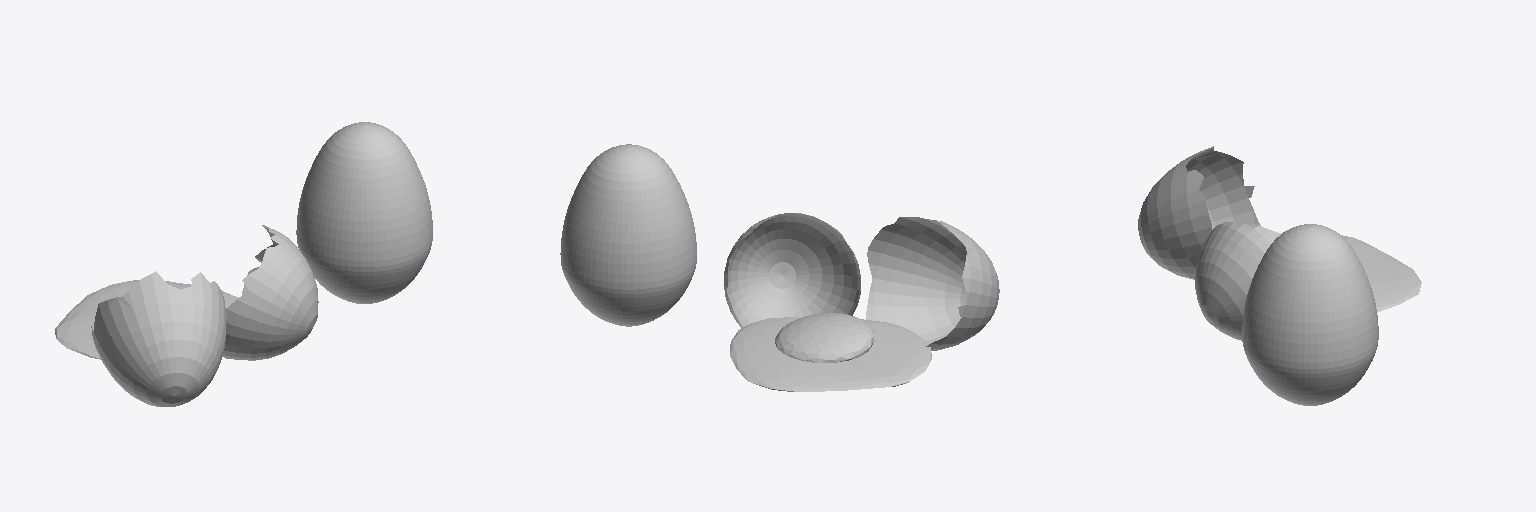
The model's file is eggs.obj.
3 views of the same model, side by side, from view 1: azimuth 30°, elevation 25°; view 2: azimuth 150°, elevation 25°; view 3: azimuth 270°, elevation 25° (orthographic).
Visible parts, largest first — view 1: Sphere001, Sphere003, Sphere002, GeoSphere002; view 2: Sphere001, Sphere003, Sphere002, GeoSphere002, GeoSphere001; view 3: Sphere001, Sphere003, Sphere002, GeoSphere002.
Part boxes in pixels (x1,y1,x2,y2): Sphere001: (296, 122, 432, 303); Sphere003: (91, 271, 226, 406); Sphere002: (223, 225, 318, 360); GeoSphere002: (55, 280, 237, 359); Sphere001: (560, 144, 696, 326); Sphere003: (865, 217, 999, 350); Sphere002: (724, 213, 860, 327); GeoSphere002: (730, 317, 931, 391); GeoSphere001: (775, 313, 873, 362); Sphere001: (1242, 224, 1378, 405); Sphere003: (1138, 146, 1260, 279); Sphere002: (1195, 222, 1280, 340); GeoSphere002: (1341, 235, 1421, 312).
Bounding box in the file's own units: 53.93 × 25 × 36.18.